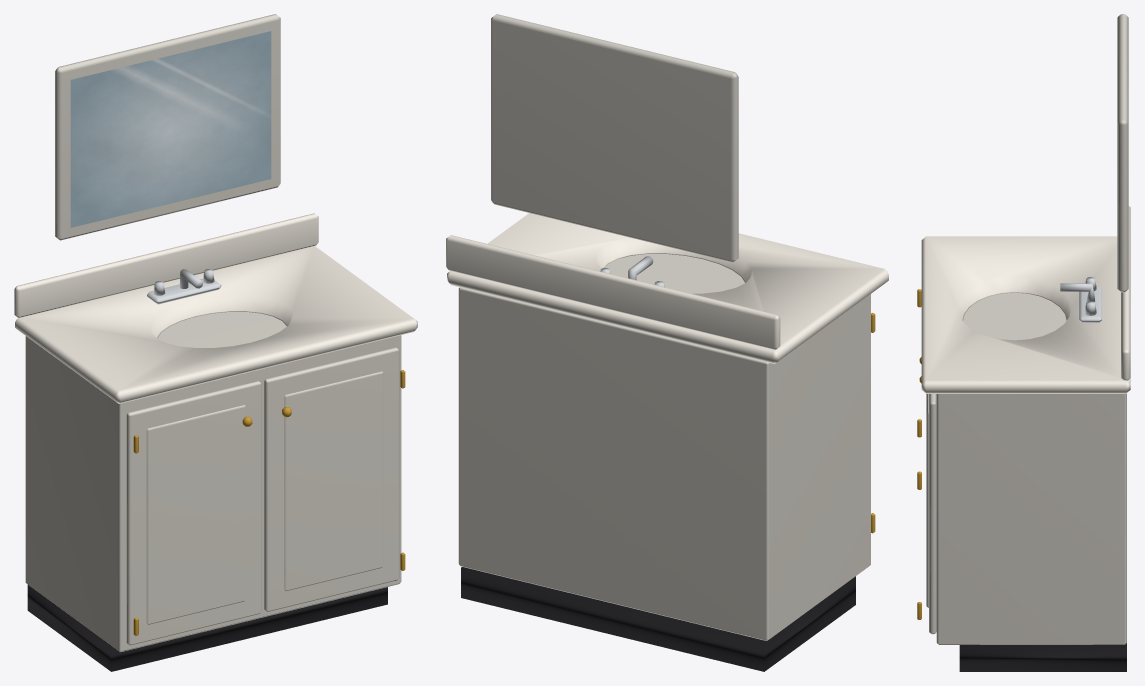
Rendered from bathroom_vanity.glb.
The picture shows the model from 3 angles, left to right: view 1: azimuth 30°, elevation 25°; view 2: azimuth 150°, elevation 25°; view 3: azimuth 270°, elevation 25°; orthographic projection. The views are drawn at different scales.
Parts seen in each view (by area): view 1: model; view 2: model; view 3: model.
Boxes of the visible parts, bbox=[...] form: model: bbox=[14, 14, 417, 671]; model: bbox=[446, 14, 888, 671]; model: bbox=[917, 14, 1130, 671].
Size of the model in its own units: 0.92 by 1.56 by 0.561.
6 materials, 1 textured.
